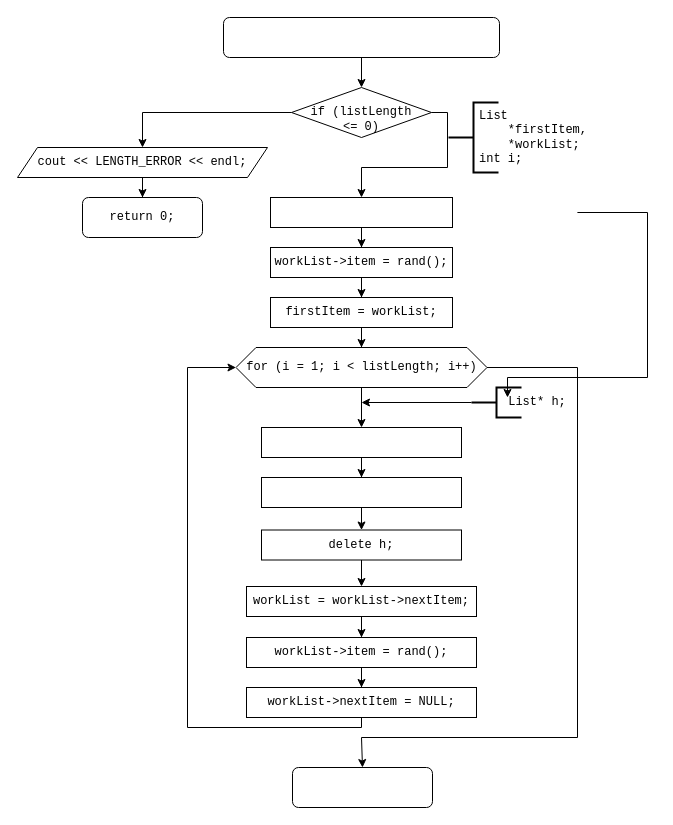
This 673x825 diagram has some shape labels left out. The shapes that lost their labels are listed below. From the top down, each one's centre as x and y in pixels, then its label:
the point at 361,37: List* NewRandomList(int listLength)
the point at 361,212: workList = new List;
the point at 361,442: h = new List;
the point at 361,492: workList->nextItem = h;
the point at 362,787: return firstItem;
